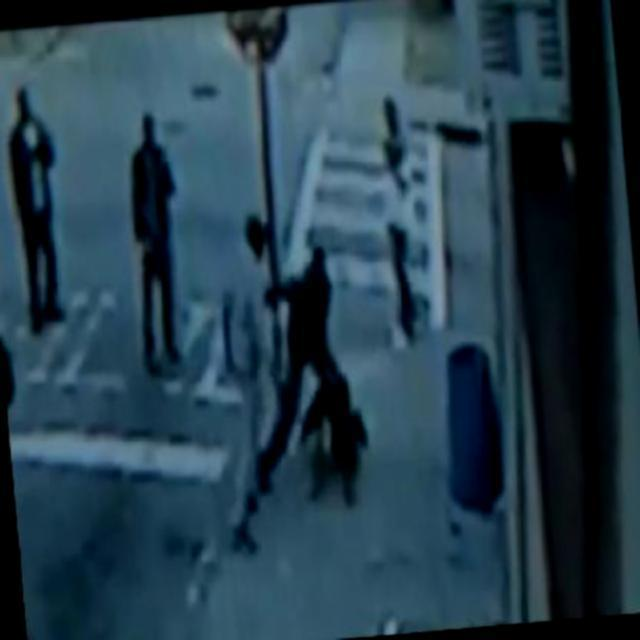fight: (236, 222, 359, 518)
